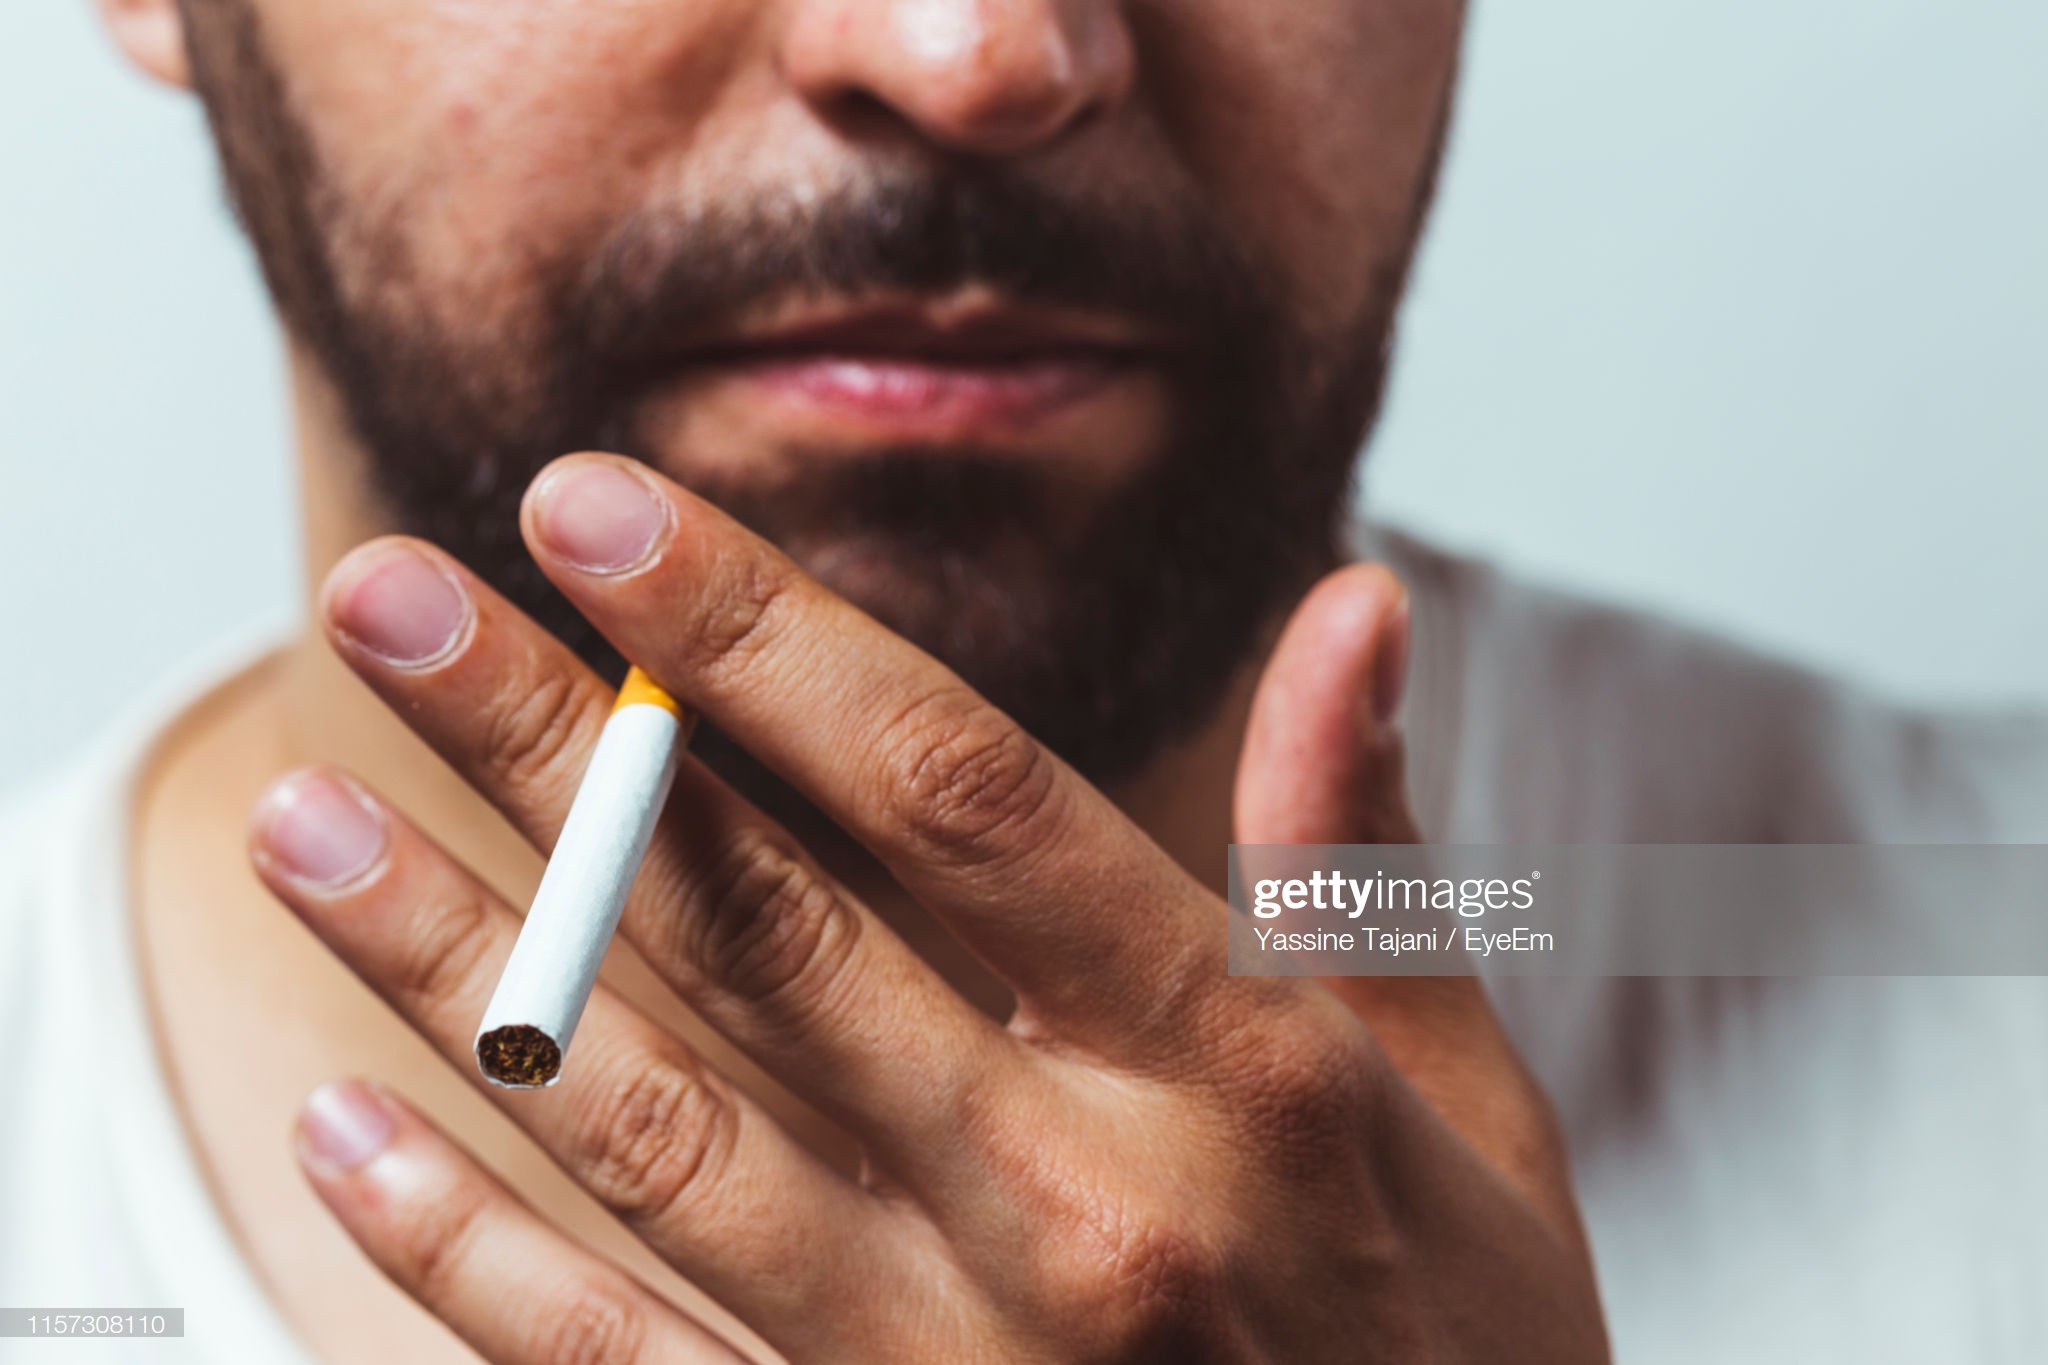sigaretta: (480, 599, 697, 1063)
